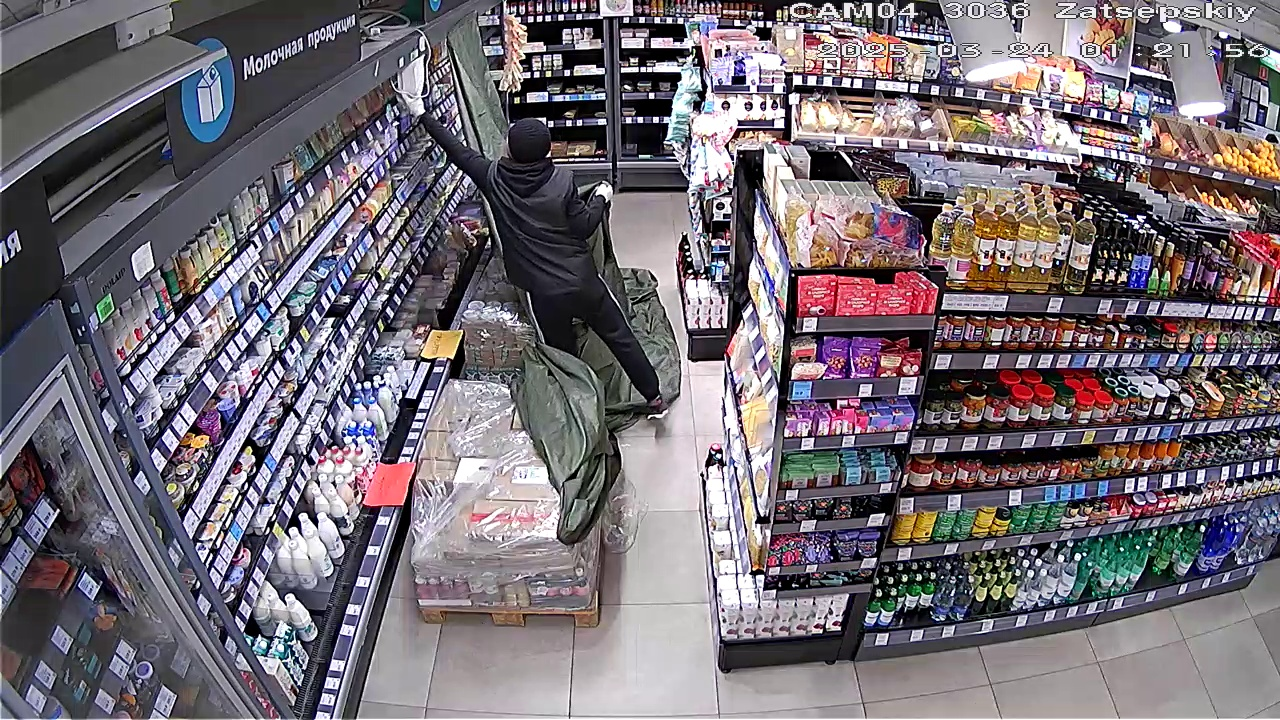Human: (390, 61, 673, 379)
pallet: (420, 383, 601, 619)
